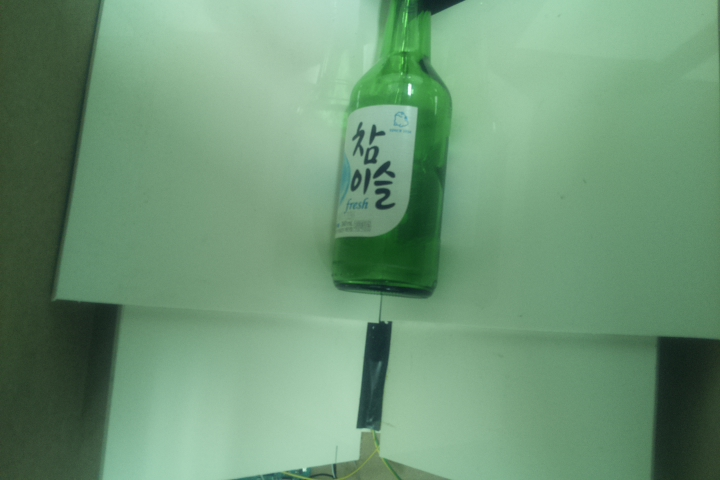soju: (332, 1, 453, 300)
